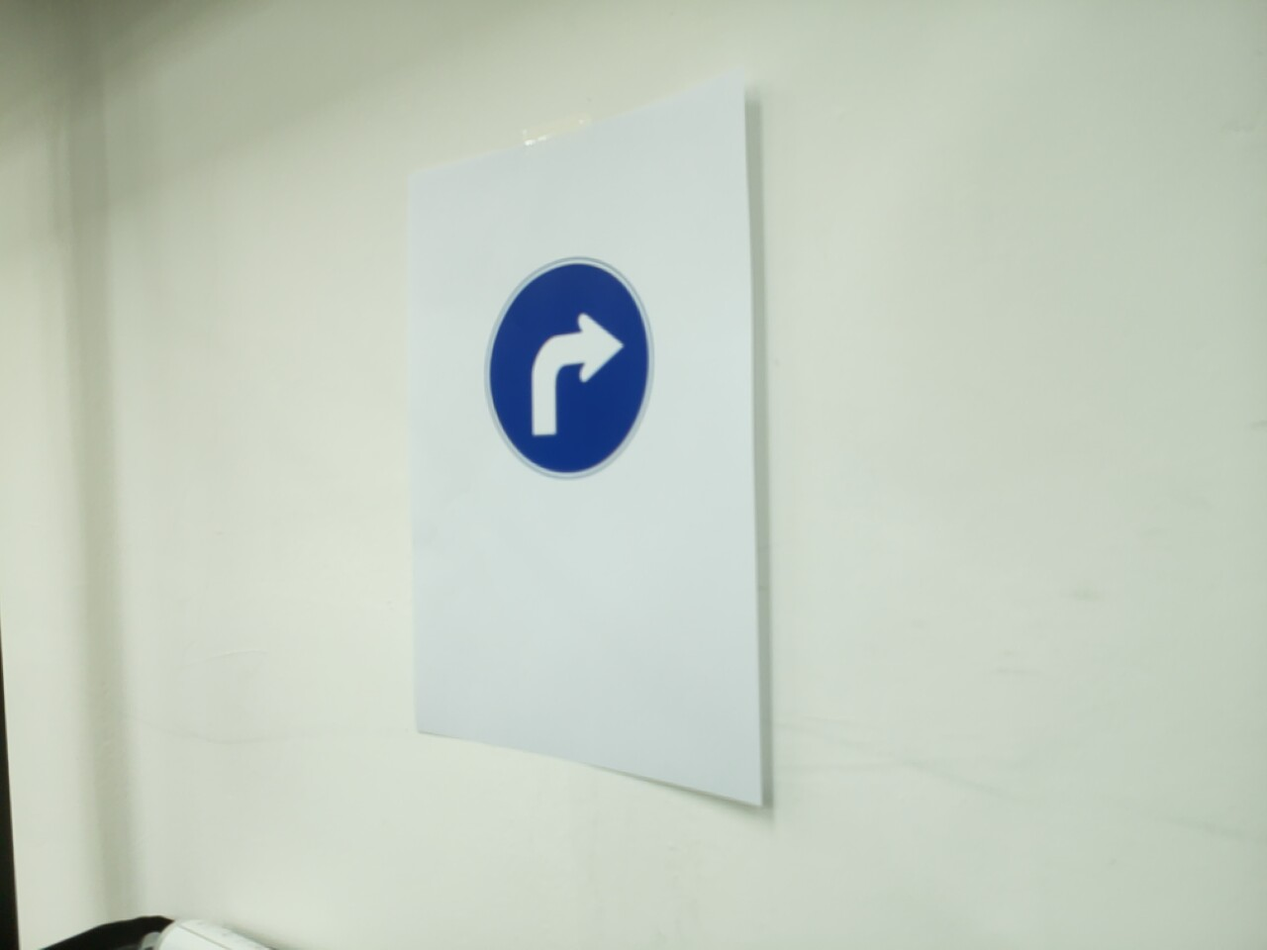right_turn: (482, 255, 656, 481)
